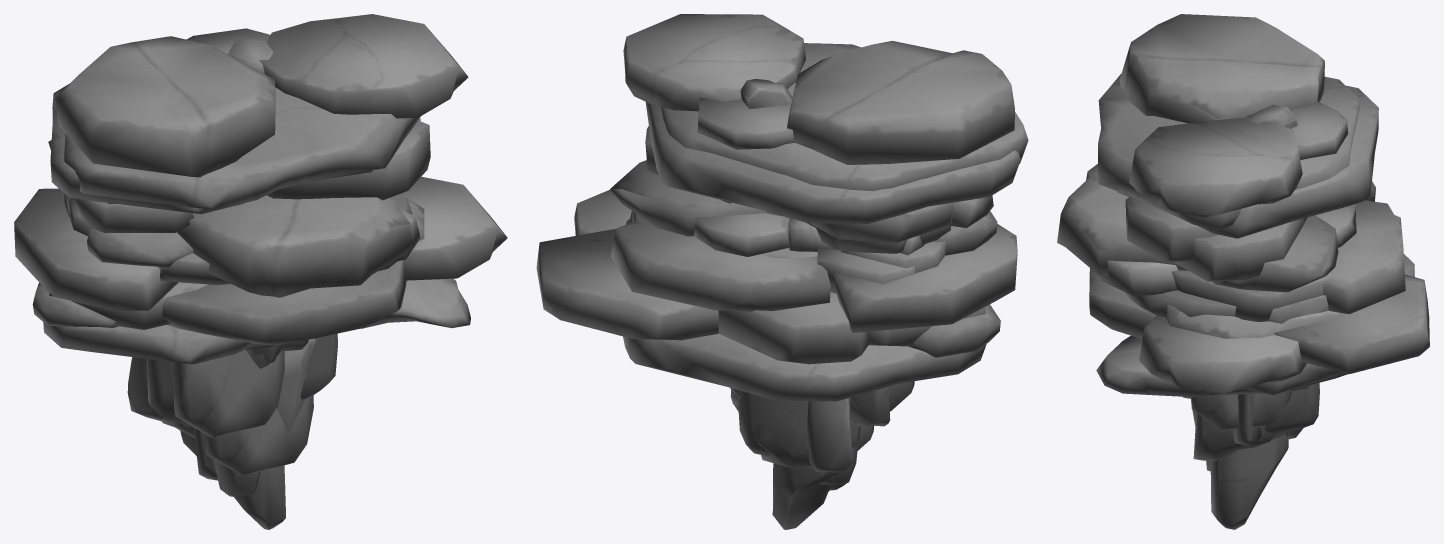
The model's file is EN_WaterfallRocks_GLTF.gltf.
3 views of the same model, side by side, from view 1: azimuth 30°, elevation 25°; view 2: azimuth 150°, elevation 25°; view 3: azimuth 270°, elevation 25° (orthographic). The views are drawn at different scales.
Parts seen in each view (by area): view 1: EN_WaterfallRock_08, EN_WaterfallRock_09, EN_WaterfallRock_07, EN_WaterfallRock_03, EN_WaterfallRock_04, EN_WaterfallRock_01, EN_WaterfallRock_10, EN_WaterfallRock_02, EN_WaterfallRock_05, EN_WaterfallRock_06; view 2: EN_WaterfallRock_09, EN_WaterfallRock_08, EN_WaterfallRock_07, EN_WaterfallRock_01, EN_WaterfallRock_02, EN_WaterfallRock_10, EN_WaterfallRock_03, EN_WaterfallRock_05; view 3: EN_WaterfallRock_08, EN_WaterfallRock_09, EN_WaterfallRock_07, EN_WaterfallRock_10, EN_WaterfallRock_01, EN_WaterfallRock_04, EN_WaterfallRock_02, EN_WaterfallRock_03, EN_WaterfallRock_05.
Part boxes in pixels (x1,y1,x2,y2): EN_WaterfallRock_08: [55, 14, 468, 235]; EN_WaterfallRock_09: [32, 176, 507, 364]; EN_WaterfallRock_07: [14, 83, 470, 349]; EN_WaterfallRock_03: [161, 338, 316, 437]; EN_WaterfallRock_04: [205, 339, 313, 475]; EN_WaterfallRock_01: [127, 333, 337, 426]; EN_WaterfallRock_10: [180, 431, 285, 529]; EN_WaterfallRock_02: [171, 349, 269, 497]; EN_WaterfallRock_05: [228, 38, 273, 73]; EN_WaterfallRock_06: [193, 427, 217, 480]; EN_WaterfallRock_09: [536, 190, 1000, 401]; EN_WaterfallRock_08: [623, 14, 1028, 273]; EN_WaterfallRock_07: [610, 102, 1020, 346]; EN_WaterfallRock_01: [730, 386, 890, 472]; EN_WaterfallRock_02: [737, 391, 860, 490]; EN_WaterfallRock_10: [772, 463, 838, 529]; EN_WaterfallRock_03: [734, 381, 914, 467]; EN_WaterfallRock_05: [740, 79, 792, 109]; EN_WaterfallRock_08: [1098, 14, 1359, 281]; EN_WaterfallRock_09: [1057, 164, 1429, 395]; EN_WaterfallRock_07: [1096, 85, 1378, 397]; EN_WaterfallRock_10: [1210, 435, 1288, 529]; EN_WaterfallRock_01: [1191, 390, 1291, 430]; EN_WaterfallRock_04: [1193, 385, 1310, 460]; EN_WaterfallRock_02: [1206, 382, 1319, 471]; EN_WaterfallRock_03: [1182, 394, 1303, 446]; EN_WaterfallRock_05: [1246, 104, 1297, 128].
Bounding box in the file's own units: 14.85 × 15.33 × 12.05.
1 material, 1 textured.
